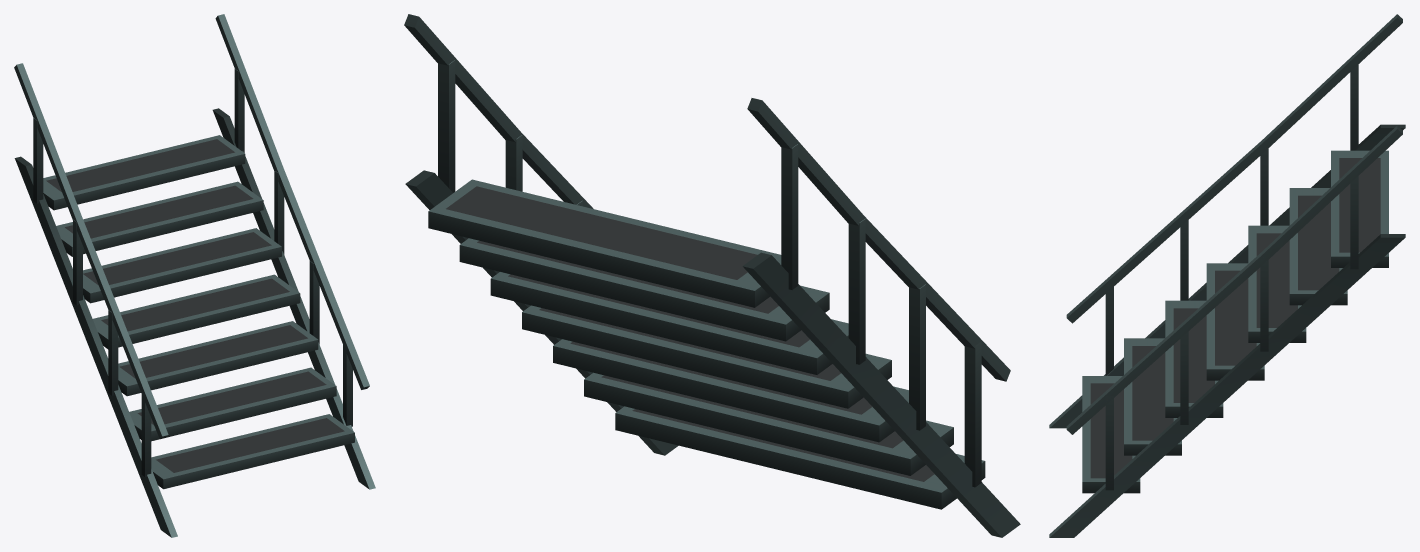
File: Ladder.fbx
3 views of the same model, side by side, from view 1: azimuth 30°, elevation 25°; view 2: azimuth 150°, elevation 25°; view 3: azimuth 270°, elevation 25° (orthographic). The views are drawn at different scales.
Visible parts, largest first — view 1: Ladder; view 2: Ladder; view 3: Ladder.
Part boxes in pixels (x1,y1,x2,y2): Ladder: (14, 14, 375, 537); Ladder: (404, 14, 1020, 537); Ladder: (1049, 14, 1405, 537).
Size of the model in its own units: 329 by 546 by 430.
